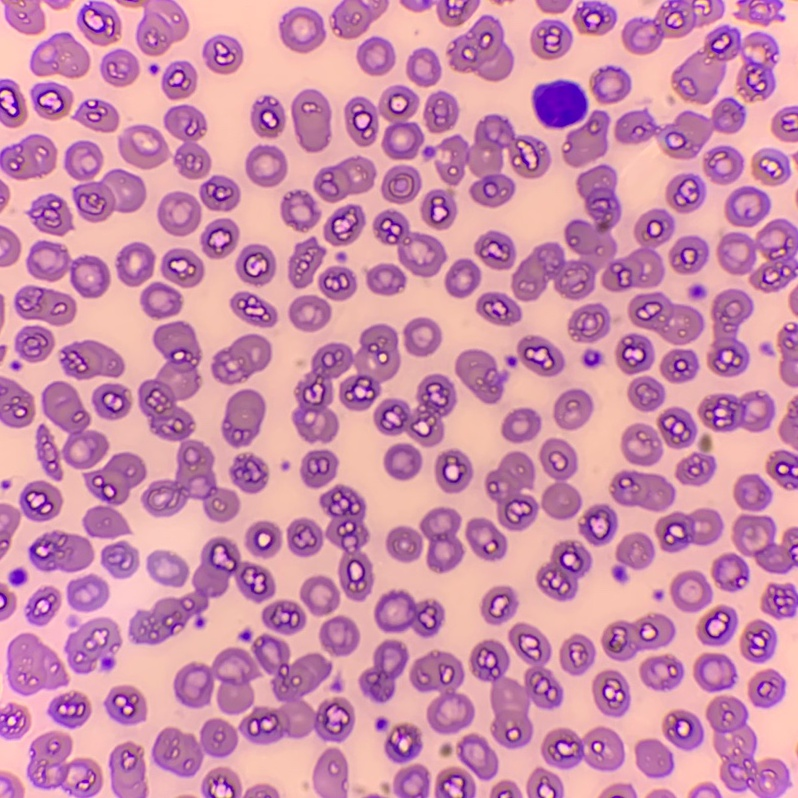RBC: (512, 165, 674, 300), (174, 631, 353, 743), (139, 322, 239, 521), (129, 538, 274, 644), (293, 324, 399, 441), (471, 624, 562, 747), (438, 115, 549, 206), (706, 696, 790, 797), (672, 25, 778, 103), (615, 97, 746, 158), (320, 485, 373, 600), (374, 374, 456, 446), (345, 86, 423, 159), (718, 219, 797, 290), (42, 382, 107, 468), (622, 0, 724, 53), (410, 651, 473, 733), (84, 453, 145, 537), (152, 719, 237, 777), (386, 508, 462, 572), (27, 732, 101, 797), (374, 210, 445, 276), (27, 241, 109, 297), (450, 15, 513, 80), (485, 452, 537, 530), (629, 293, 703, 344), (73, 169, 145, 221), (708, 290, 752, 375), (121, 0, 188, 55), (734, 515, 797, 573), (7, 634, 66, 694), (542, 728, 624, 770), (164, 105, 210, 178), (540, 439, 581, 519), (537, 540, 591, 600), (602, 615, 674, 660), (375, 591, 444, 636), (66, 618, 120, 673), (699, 392, 774, 431), (360, 640, 407, 702), (212, 334, 270, 383), (656, 509, 722, 551), (532, 79, 588, 128), (456, 350, 507, 403), (314, 157, 375, 201), (28, 531, 93, 571), (30, 32, 89, 76), (563, 110, 608, 166), (0, 134, 55, 179), (612, 471, 674, 510), (292, 89, 330, 152), (222, 389, 264, 446), (14, 286, 75, 324), (62, 340, 123, 378), (330, 0, 388, 38), (118, 125, 168, 168), (279, 6, 325, 52), (109, 743, 146, 797), (613, 533, 654, 581), (676, 437, 715, 484), (78, 1, 120, 44), (158, 192, 200, 235), (726, 186, 770, 226), (518, 336, 563, 375), (466, 518, 506, 560), (694, 653, 737, 692), (0, 378, 34, 427), (460, 734, 497, 779), (593, 670, 629, 716), (30, 194, 71, 234), (671, 571, 712, 611), (663, 710, 704, 750), (289, 239, 323, 287), (246, 146, 286, 186), (324, 205, 365, 244), (622, 424, 661, 465), (20, 481, 61, 520), (117, 242, 154, 285), (314, 749, 347, 797), (236, 244, 275, 284), (697, 606, 737, 645), (531, 20, 572, 58), (590, 65, 631, 103), (568, 304, 609, 342), (579, 504, 617, 545), (161, 249, 203, 286), (435, 450, 472, 492), (231, 292, 276, 326), (281, 190, 319, 230), (105, 686, 145, 724), (741, 620, 777, 662), (640, 655, 683, 690), (203, 35, 242, 73), (64, 141, 102, 180), (554, 389, 592, 428), (658, 408, 696, 447), (230, 453, 268, 492), (475, 231, 515, 268), (477, 292, 521, 325), (667, 174, 705, 212), (320, 617, 358, 655), (704, 146, 743, 183), (201, 219, 238, 258), (616, 334, 653, 373), (31, 82, 71, 118), (141, 282, 181, 318), (289, 295, 330, 330), (147, 551, 188, 586), (67, 575, 108, 610), (251, 95, 285, 137), (262, 600, 305, 633), (382, 165, 420, 202), (670, 236, 708, 273), (301, 577, 339, 614), (636, 739, 673, 777), (49, 693, 90, 727), (75, 99, 118, 131), (357, 37, 394, 74), (712, 554, 749, 591), (748, 670, 785, 707), (404, 318, 440, 356), (385, 724, 421, 762), (200, 175, 239, 210), (92, 384, 131, 419), (424, 92, 458, 132), (101, 49, 138, 85), (753, 148, 790, 184), (384, 443, 421, 479), (301, 450, 337, 487), (734, 474, 771, 510), (421, 190, 456, 228), (15, 326, 53, 361), (560, 635, 594, 674), (4, 0, 44, 33), (445, 259, 480, 296), (287, 519, 322, 556), (101, 542, 138, 577), (25, 587, 60, 624), (502, 408, 540, 442), (575, 1, 615, 33), (162, 61, 196, 98), (482, 587, 516, 624), (246, 521, 281, 556), (37, 427, 61, 478), (761, 584, 797, 618), (407, 48, 440, 85), (661, 349, 698, 382), (629, 377, 664, 410), (319, 267, 355, 299), (367, 264, 405, 294), (767, 451, 797, 489), (202, 768, 240, 797), (394, 766, 429, 797), (436, 769, 474, 797), (779, 329, 797, 386), (437, 0, 478, 25), (527, 769, 562, 797), (738, 0, 780, 23), (0, 705, 29, 738), (0, 504, 19, 554), (772, 106, 797, 141), (0, 95, 26, 126), (0, 227, 20, 266), (780, 401, 797, 445), (0, 772, 23, 797), (0, 584, 15, 619), (491, 781, 520, 797), (602, 784, 635, 797), (537, 0, 569, 12), (245, 785, 277, 797), (582, 350, 603, 367), (8, 568, 27, 585), (402, 0, 433, 10), (689, 285, 705, 299), (702, 783, 717, 796), (0, 79, 16, 91), (651, 790, 672, 797), (790, 291, 797, 311), (376, 718, 387, 730), (424, 146, 435, 157), (0, 183, 8, 198), (506, 356, 516, 366), (195, 617, 204, 626), (333, 681, 342, 690), (48, 0, 59, 7), (442, 745, 450, 754), (690, 791, 699, 797), (0, 345, 5, 355)
